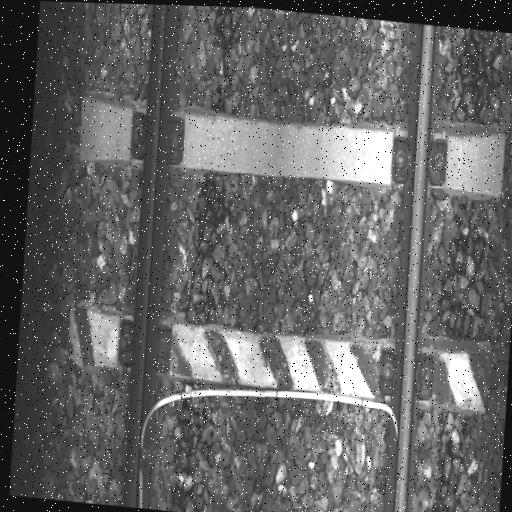clip: (112, 313, 173, 379), (126, 102, 186, 163), (375, 345, 436, 402), (391, 133, 446, 189)
sleeper: (60, 298, 493, 421), (77, 91, 505, 205)
